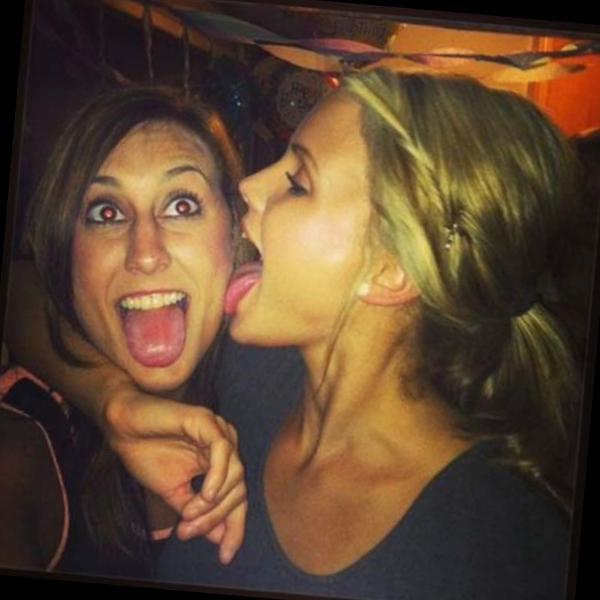Drunk: (74, 132, 228, 385), (233, 85, 366, 351)
